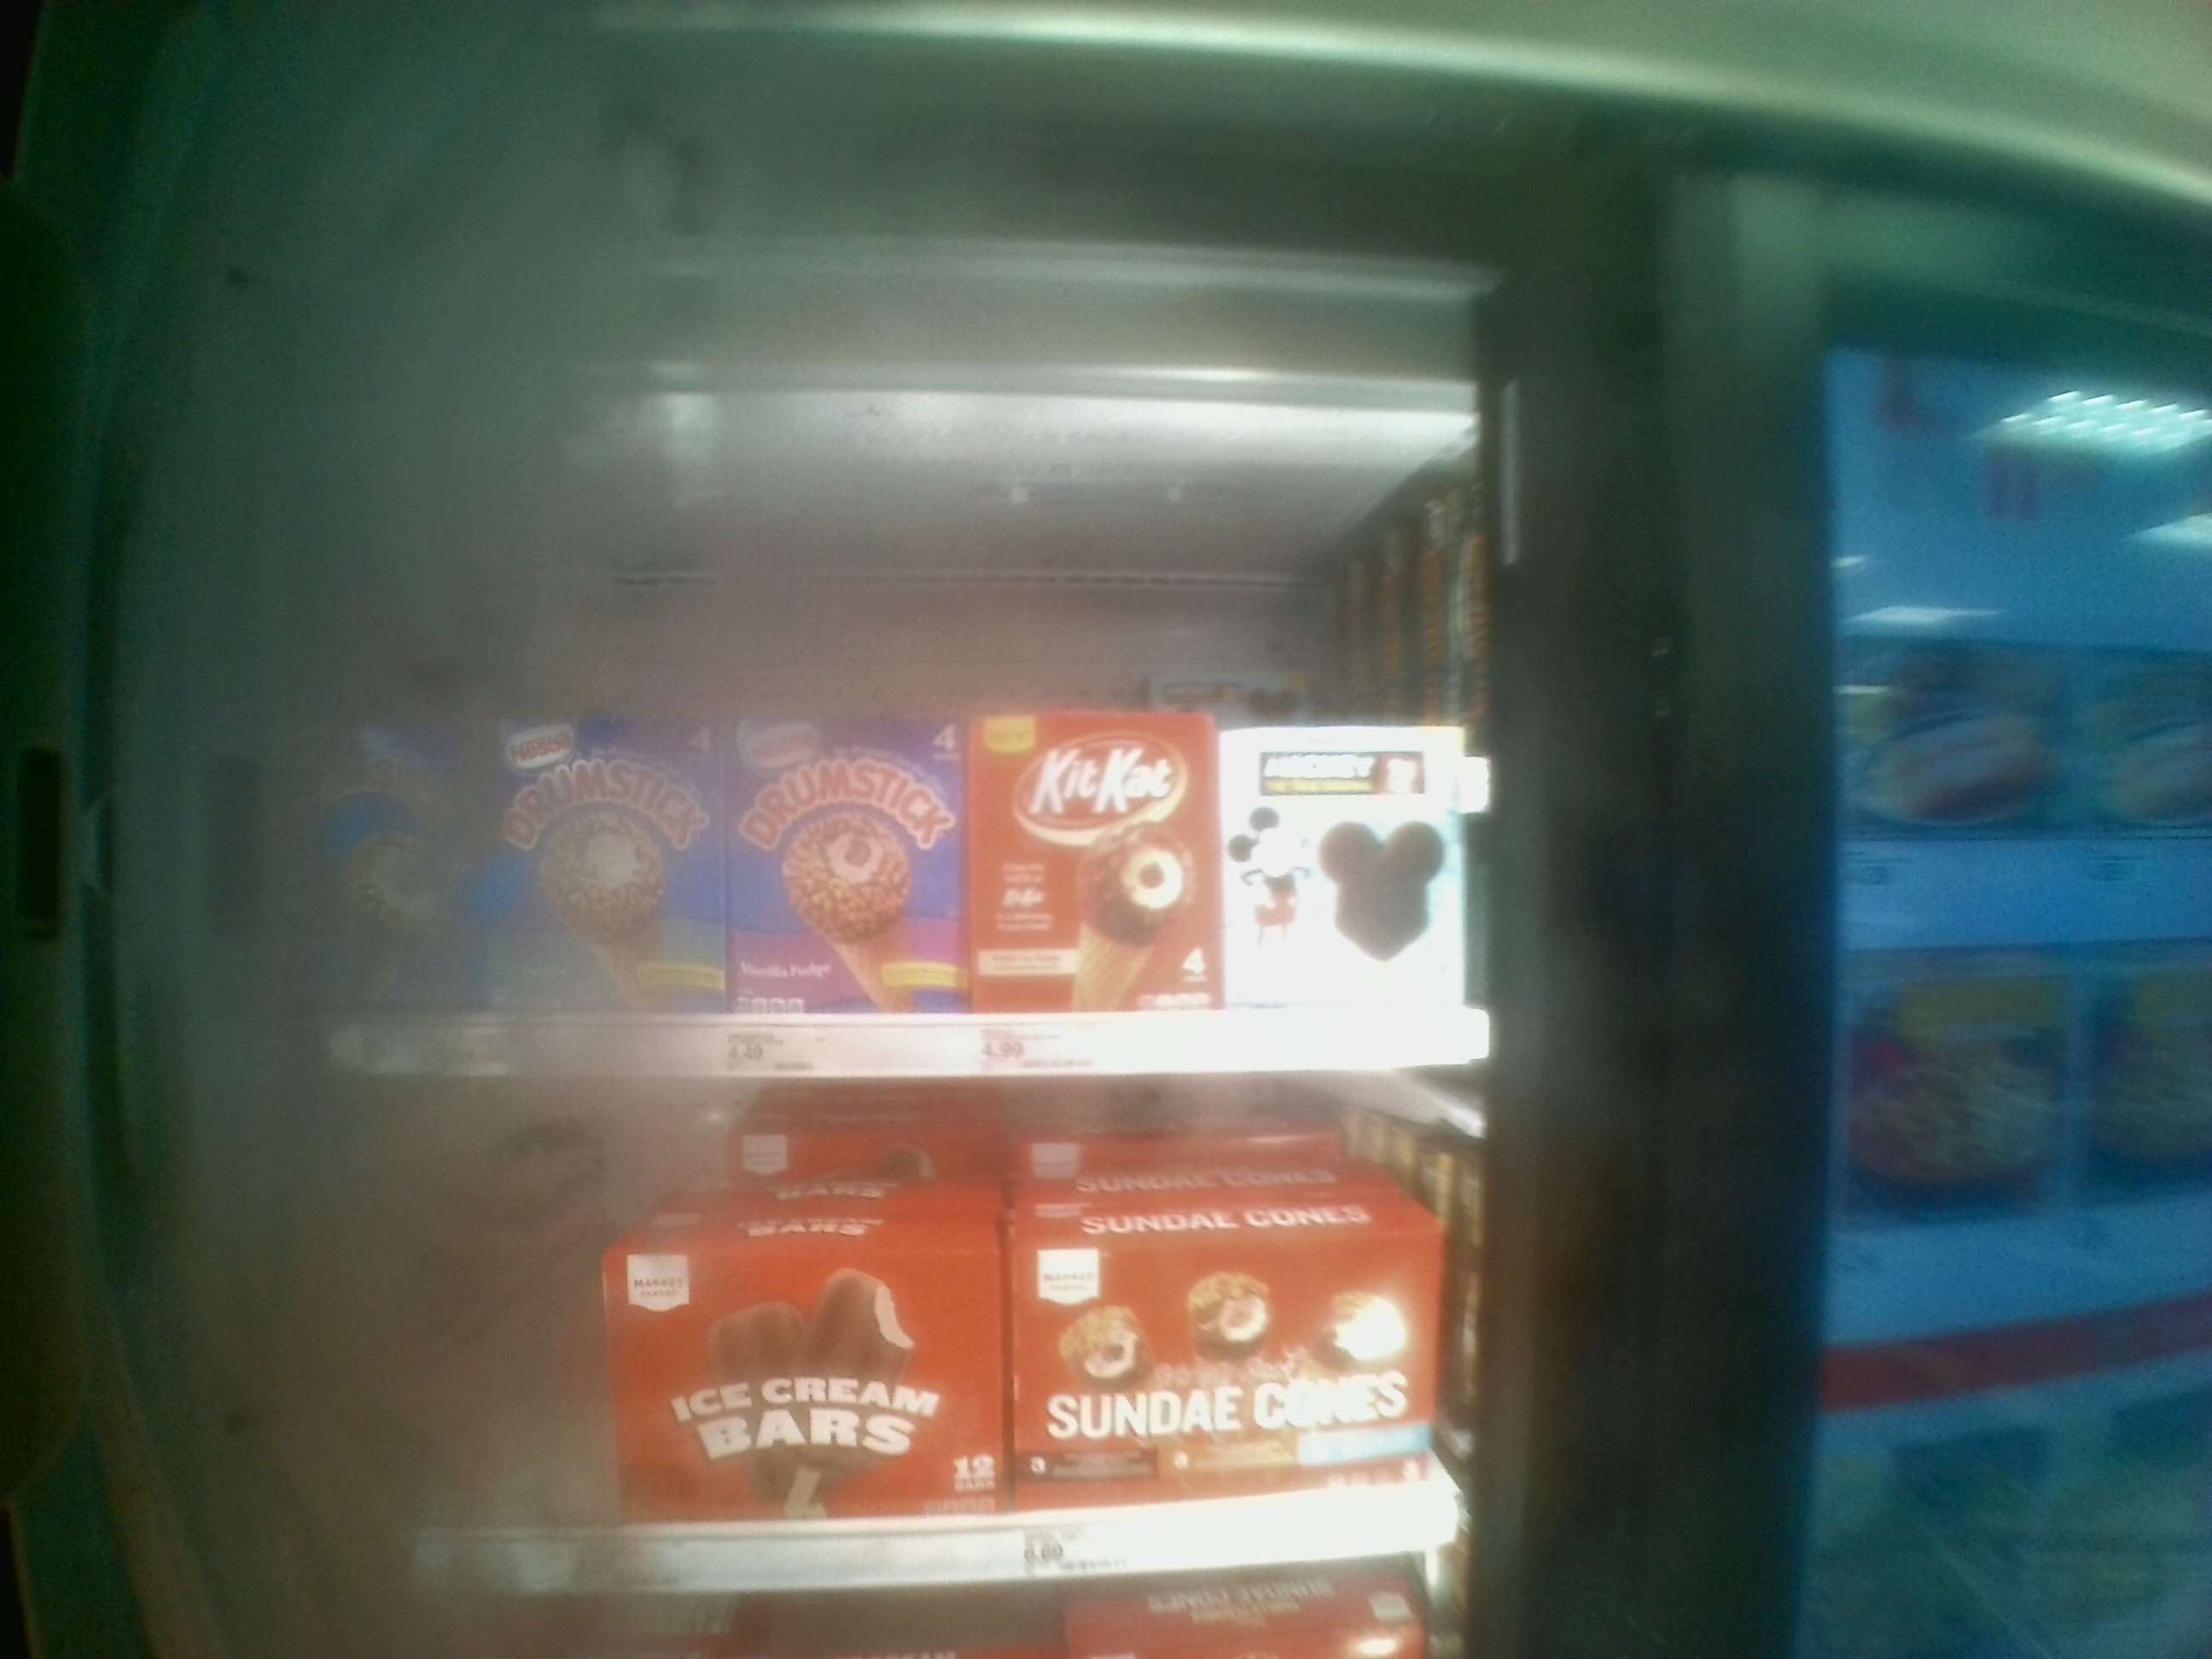shelf: (303, 1068, 1480, 1588), (298, 591, 1496, 1068)
